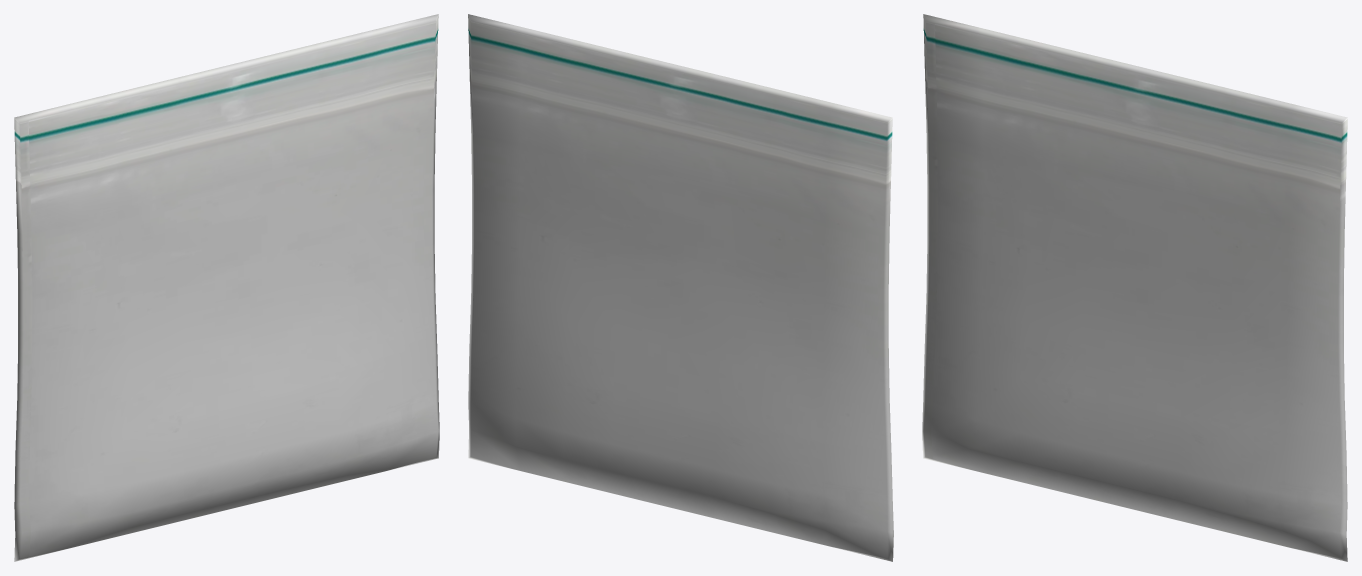
File: WeedBag.fbx
3 views of the same model, side by side, from view 1: azimuth 30°, elevation 25°; view 2: azimuth 150°, elevation 25°; view 3: azimuth 330°, elevation 25° (orthographic).
Visible parts, largest first — view 1: Weed Bag; view 2: Weed Bag; view 3: Weed Bag.
Boxes of the visible parts, box(x1,y1,x2,y2) form: Weed Bag: box(14, 14, 439, 561); Weed Bag: box(468, 14, 893, 561); Weed Bag: box(922, 14, 1347, 561).
Bounding box in the file's own units: 239 × 239 × 23.96.
1 material, 1 textured.
